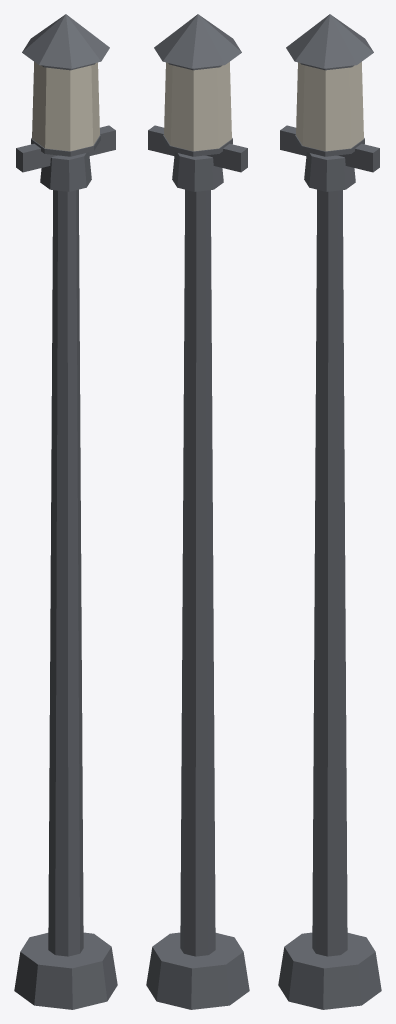
File: SN_Gas_Lamp.glb
The picture shows the model from 3 angles, left to right: view 1: azimuth 30°, elevation 25°; view 2: azimuth 150°, elevation 25°; view 3: azimuth 330°, elevation 25°; orthographic projection.
Parts seen in each view (by area): view 1: SN_Gas_Lamp; view 2: SN_Gas_Lamp; view 3: SN_Gas_Lamp.
Boxes of the visible parts, <box> form: SN_Gas_Lamp: <box>14,14,117,1009</box>; SN_Gas_Lamp: <box>146,14,249,1009</box>; SN_Gas_Lamp: <box>278,14,381,1009</box>.
Size of the model in its own units: 0.35 by 3.5 by 0.3141.
